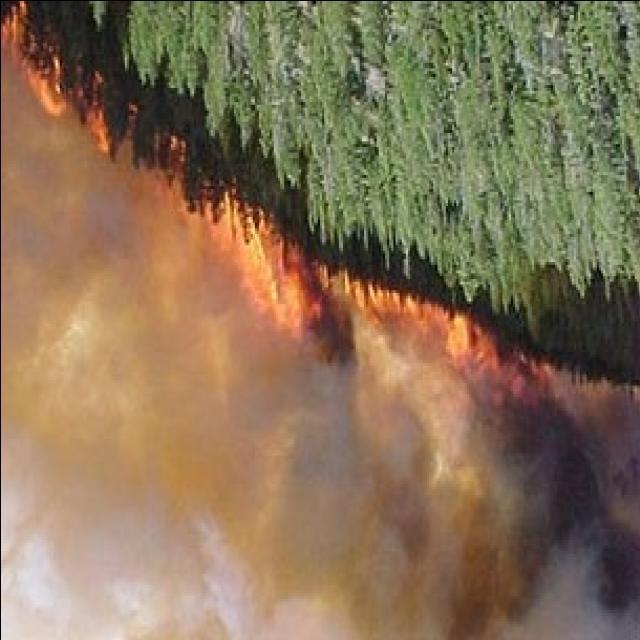Fire: (344, 278, 550, 388), (197, 177, 317, 337)
